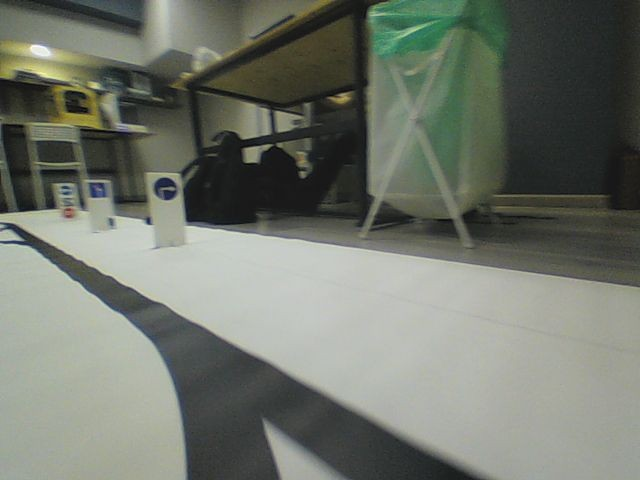Right: (153, 177, 177, 202)
